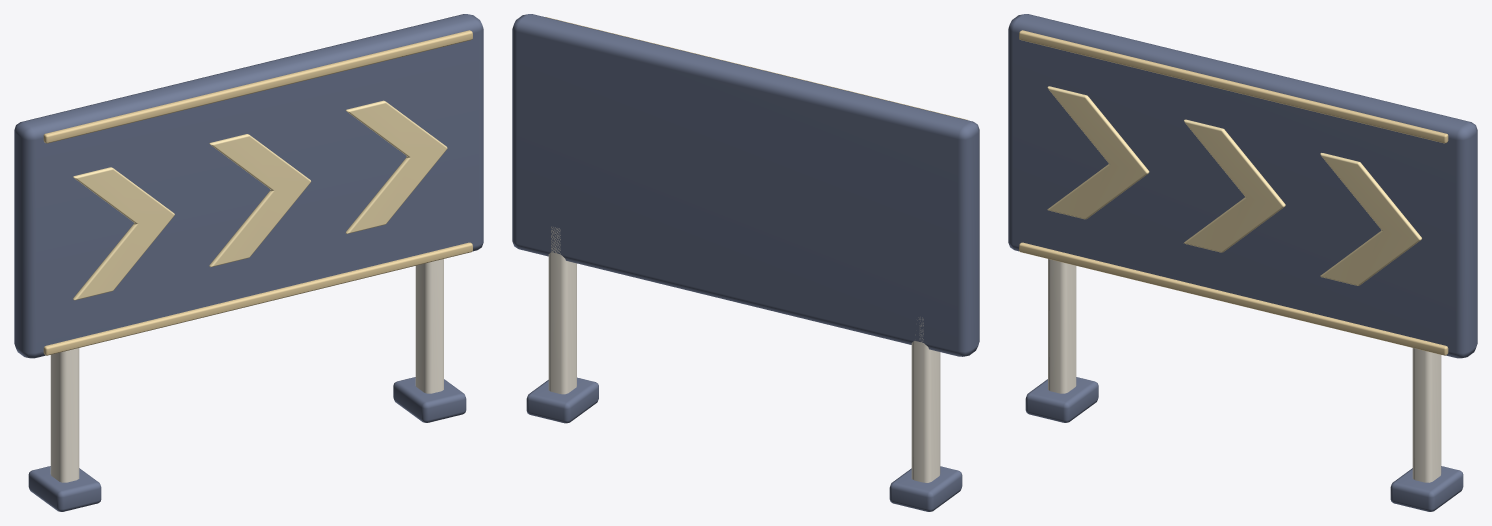
Rendered from Chevron.fbx.
The picture shows the model from 3 angles, left to right: view 1: azimuth 30°, elevation 25°; view 2: azimuth 150°, elevation 25°; view 3: azimuth 330°, elevation 25°; orthographic projection.
Parts seen in each view (by area): view 1: NavyBoard, DirectionChevron2, DirectionChevron0, DirectionChevron1, TopTrim, BottomTrim, SignPostL, SignPostR, SignFootL, SignFootR; view 2: NavyBoard, SignPostR, SignPostL, SignFootL, SignFootR; view 3: NavyBoard, DirectionChevron1, DirectionChevron0, DirectionChevron2, TopTrim, BottomTrim, SignPostR, SignPostL, SignFootR, SignFootL.
Boxes of the visible parts, box(x1,y1,x2,y2) form: NavyBoard: box(14, 14, 483, 358); DirectionChevron2: box(345, 100, 447, 233); DirectionChevron0: box(73, 167, 174, 300); DirectionChevron1: box(209, 134, 311, 266); TopTrim: box(43, 30, 472, 143); BottomTrim: box(43, 242, 472, 355); SignPostL: box(50, 348, 79, 482); SignPostR: box(415, 259, 443, 393); SignFootL: box(28, 466, 101, 511); SignFootR: box(393, 377, 466, 422); NavyBoard: box(512, 14, 979, 356); SignPostR: box(548, 226, 576, 394); SignPostL: box(911, 317, 940, 482); SignFootL: box(889, 466, 962, 511); SignFootR: box(526, 377, 598, 423); NavyBoard: box(1008, 14, 1477, 358); DirectionChevron1: box(1184, 119, 1285, 252); DirectionChevron0: box(1047, 86, 1149, 219); DirectionChevron2: box(1320, 153, 1421, 285); TopTrim: box(1019, 30, 1448, 143); BottomTrim: box(1019, 242, 1448, 355); SignPostR: box(1412, 348, 1441, 482); SignPostL: box(1048, 259, 1076, 393); SignFootR: box(1390, 466, 1463, 511); SignFootL: box(1025, 377, 1098, 422).
Size of the model in its own units: 250 by 199 by 31.
